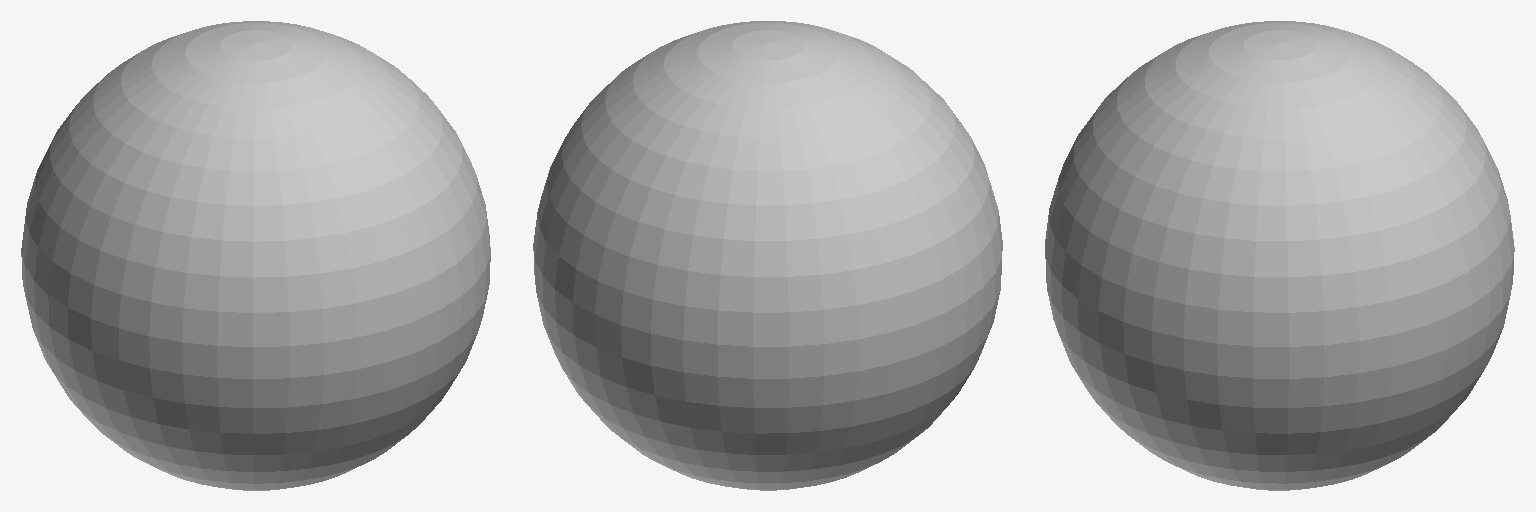
Rendered from moon.obj.
The picture shows the model from 3 angles: view 1: azimuth 30°, elevation 25°; view 2: azimuth 150°, elevation 25°; view 3: azimuth 270°, elevation 25°; orthographic projection.
Parts seen in each view (by area): view 1: Sphere001; view 2: Sphere001; view 3: Sphere001.
Part boxes in pixels (x1,y1,x2,y2): Sphere001: (21, 21, 490, 490); Sphere001: (533, 21, 1002, 490); Sphere001: (1045, 21, 1514, 490).
Bounding box in the file's own units: 125 × 125 × 125.